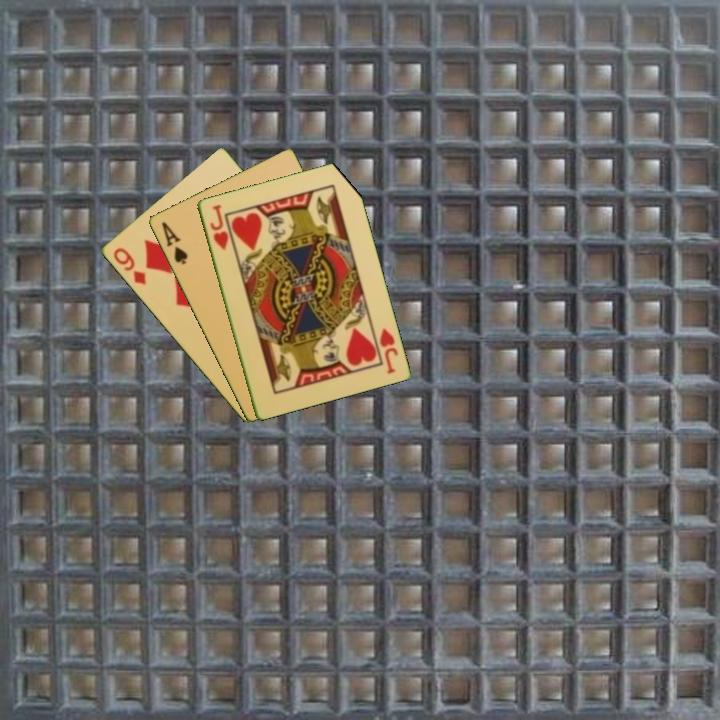9d: (109, 244, 149, 288)
As: (157, 218, 190, 268)
Jh: (375, 324, 401, 377), (206, 201, 231, 252)
